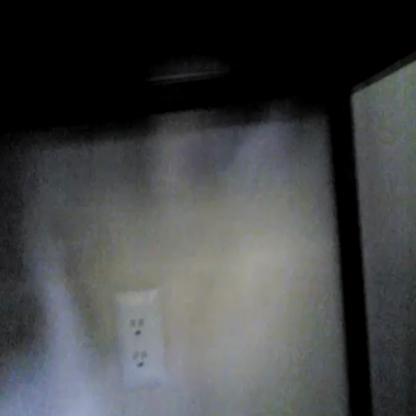OUTLET: (113, 290, 165, 393)
